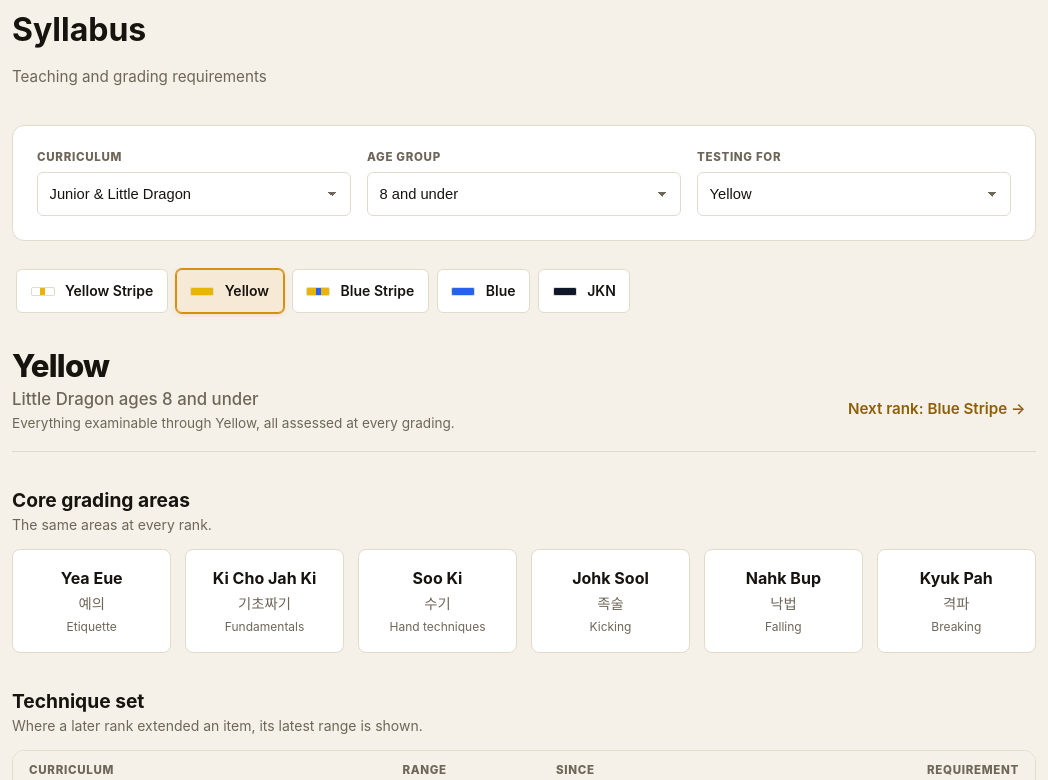
Test: SyllabusScreen › advances to next rank when clicking 'Next rank: ... →'
Click the button "Next rank: Blue Stripe →".
click(937, 409)  # box [838,387,1036,431]
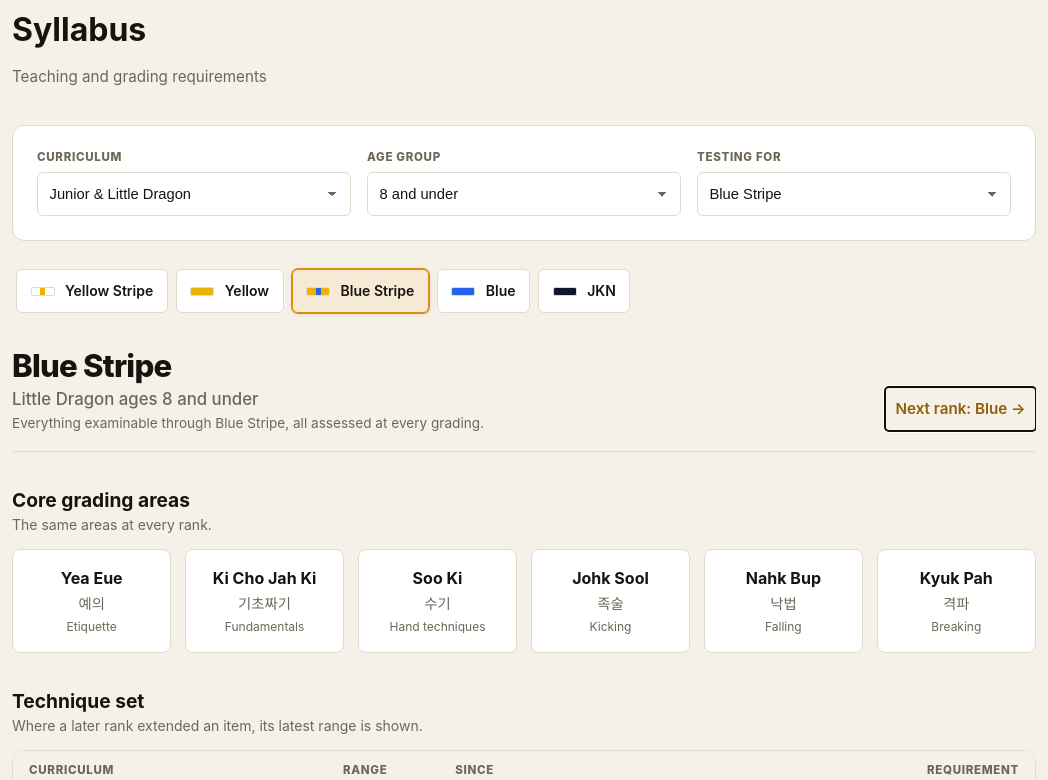
Check: the heading "Blue Stripe" is shown, box [12,347,172,385]
Check: the dropdown labelled "Testing for" shows "Blue Stripe", box [697,172,1011,216]
